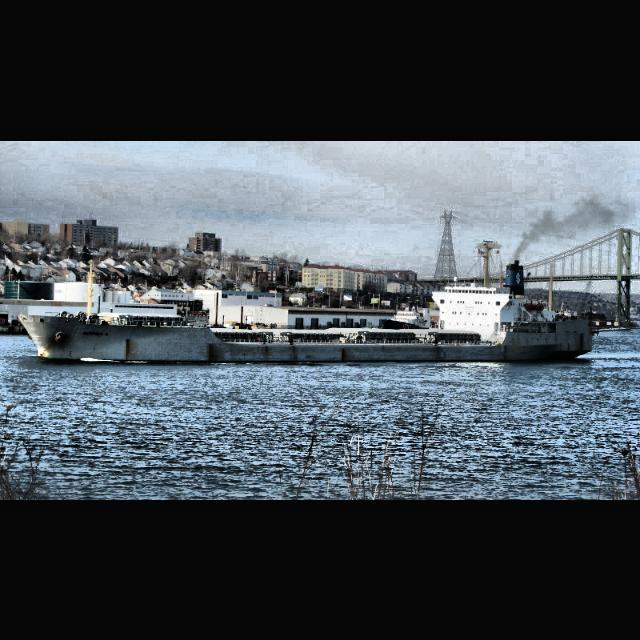bulk_carrier: (18, 237, 592, 363)
